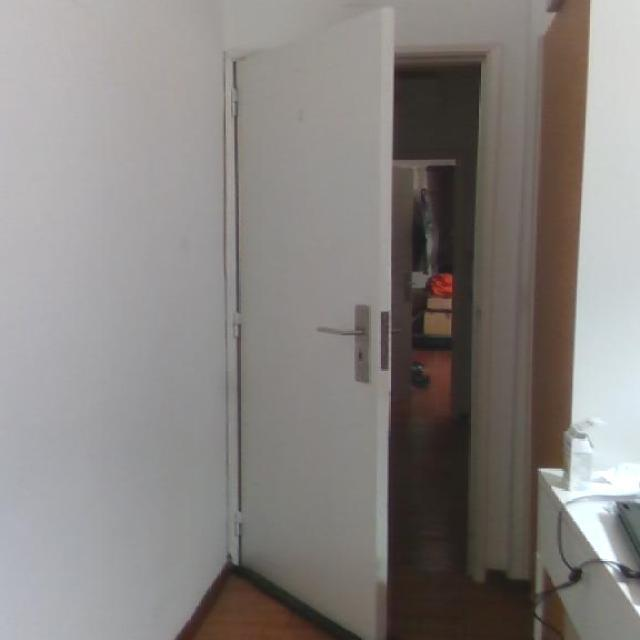door: (230, 6, 394, 638)
